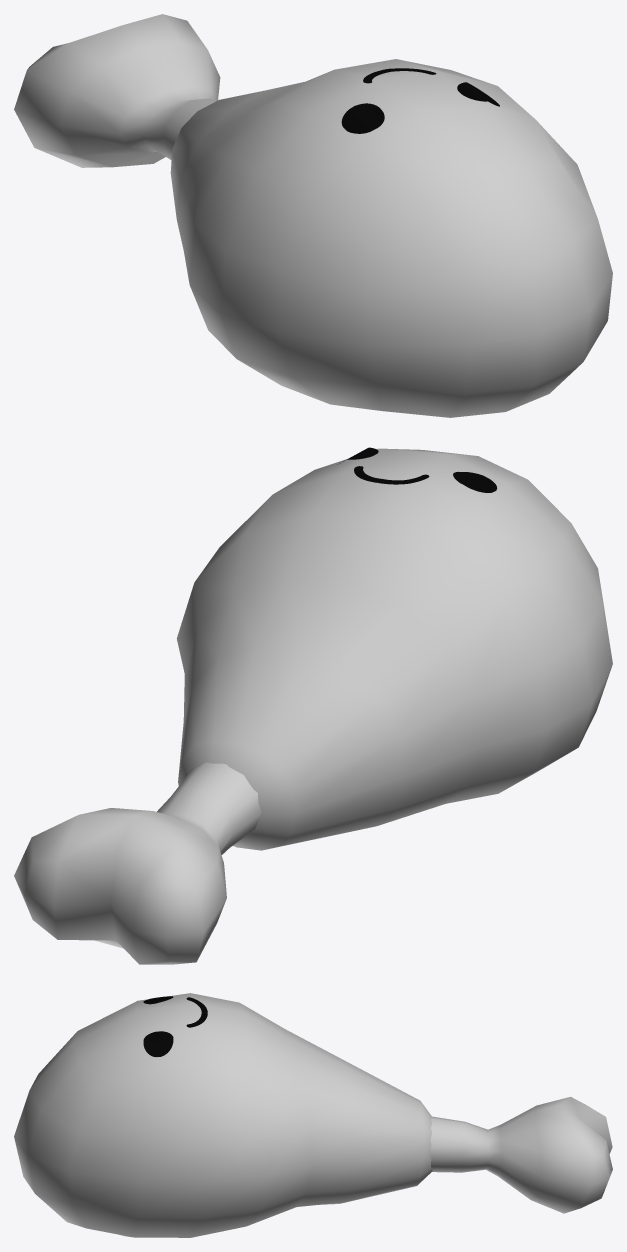
The model's file is chicken_leg_smile.fbx.
The picture shows the model from 3 angles, top to bottom: view 1: azimuth 30°, elevation 25°; view 2: azimuth 150°, elevation 25°; view 3: azimuth 270°, elevation 25°; orthographic projection. The views are drawn at different scales.
Parts seen in each view (by area): view 1: chicken_leg_smile; view 2: chicken_leg_smile; view 3: chicken_leg_smile.
Boxes of the visible parts, bbox=[...] form: chicken_leg_smile: bbox=[14, 14, 612, 417]; chicken_leg_smile: bbox=[14, 447, 612, 964]; chicken_leg_smile: bbox=[14, 993, 612, 1237].
Size of the model in its own units: 88.61 by 70.18 by 183.
Materials: 2 (1 with a texture image).
